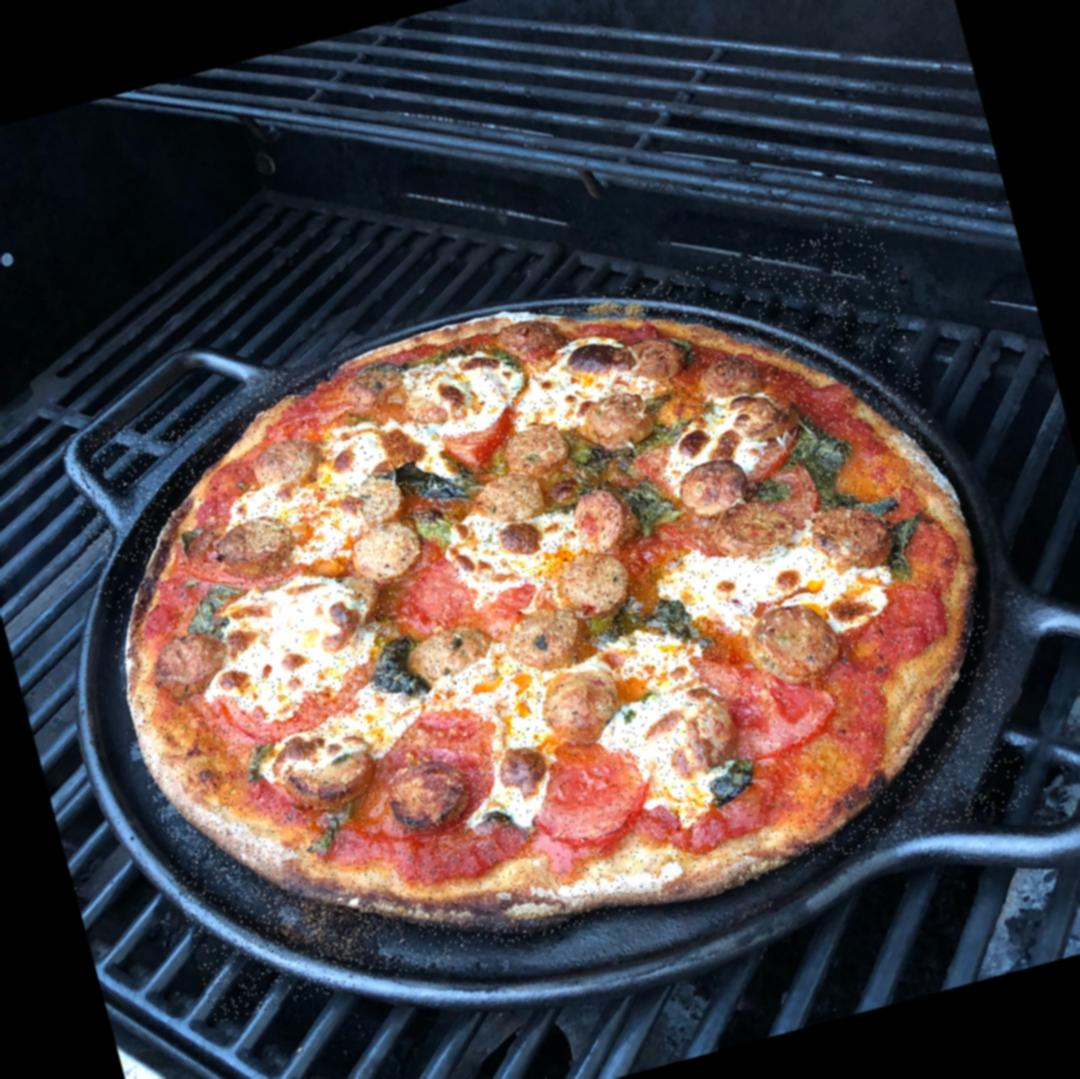Cheese: (244, 578, 354, 675), (694, 544, 828, 618), (457, 666, 543, 740), (422, 362, 514, 428)
Ham: (270, 720, 378, 814), (748, 596, 844, 689), (403, 616, 502, 690), (546, 659, 627, 745), (390, 752, 476, 830), (150, 626, 238, 696), (554, 547, 635, 618), (511, 601, 591, 671), (570, 482, 646, 552), (224, 510, 299, 576), (356, 516, 428, 583), (672, 457, 745, 521), (469, 468, 546, 528), (257, 431, 331, 492), (338, 466, 406, 530), (334, 354, 406, 413), (588, 383, 656, 445), (621, 326, 690, 386), (729, 383, 800, 439), (494, 310, 568, 362), (504, 421, 567, 477), (692, 350, 762, 400)
Pizza: (58, 219, 1034, 1024)
Tomatoes: (704, 634, 843, 771), (522, 744, 675, 866), (215, 657, 380, 760), (394, 544, 538, 644), (430, 403, 534, 478)
